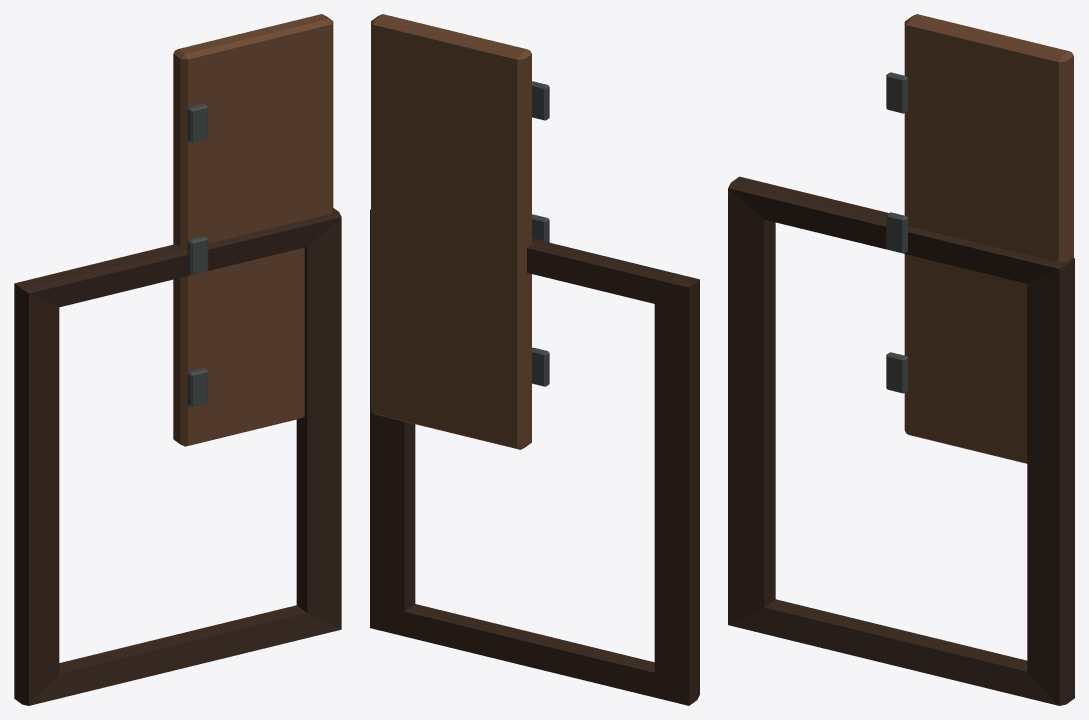
The model's file is door_frame_lone.glb.
The picture shows the model from 3 angles, left to right: view 1: azimuth 30°, elevation 25°; view 2: azimuth 150°, elevation 25°; view 3: azimuth 330°, elevation 25°; orthographic projection. The views are drawn at different scales.
Visible parts, largest first — view 1: Hoja entreabierta, Umbral aislado, Bisagra.001, Bisagra, Bisagra.002; view 2: Hoja entreabierta, Umbral aislado, Bisagra, Bisagra.002; view 3: Umbral aislado, Hoja entreabierta, Bisagra, Bisagra.002, Bisagra.001.
Boxes of the visible parts, x1,y1,x2,y2 form: Hoja entreabierta: (173, 14, 333, 446); Umbral aislado: (14, 208, 341, 705); Bisagra.001: (187, 236, 208, 274); Bisagra: (187, 368, 208, 406); Bisagra.002: (187, 104, 208, 142); Hoja entreabierta: (371, 14, 531, 449); Umbral aislado: (370, 209, 699, 705); Bisagra: (532, 347, 549, 386); Bisagra.002: (532, 81, 549, 120); Umbral aislado: (728, 176, 1074, 705); Hoja entreabierta: (904, 14, 1073, 463); Bisagra: (886, 352, 907, 393); Bisagra.002: (886, 72, 907, 113); Bisagra.001: (886, 212, 907, 253).
Size of the model in its own units: 1.2 by 2.2 by 0.16.
